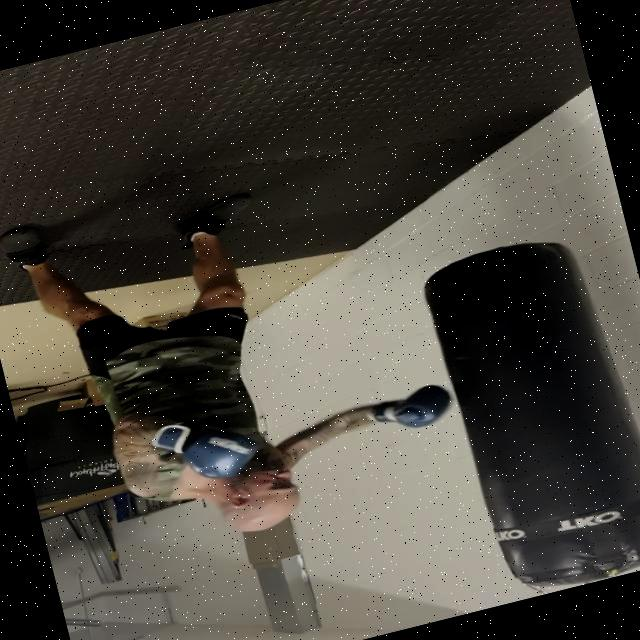punch: (73, 304, 494, 584)
